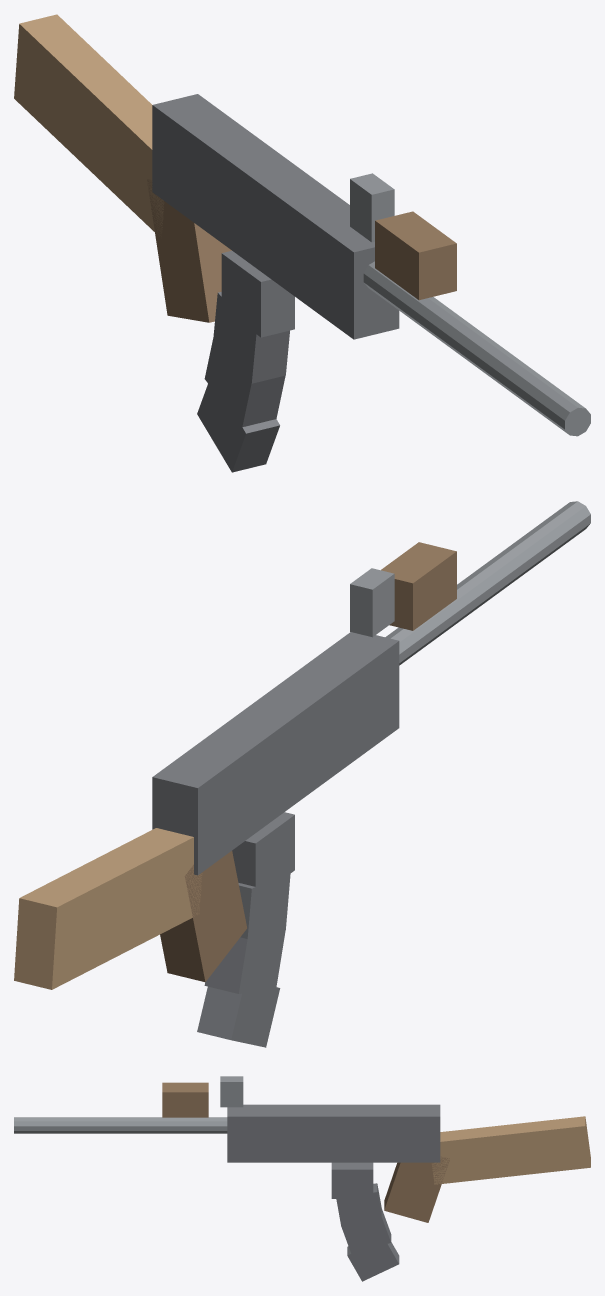
3 renders of one model, top to bottom at view 1: azimuth 30°, elevation 25°; view 2: azimuth 150°, elevation 25°; view 3: azimuth 270°, elevation 25°, orthographic. The views are drawn at different scales.
Parts seen in each view (by area): view 1: ak47; view 2: ak47; view 3: ak47.
Part boxes in pixels (x1,y1,x2,y2): ak47: (14,14,590,472); ak47: (14,501,590,1047); ak47: (14,1076,590,1281).
Size of the model in its own units: 0.06 by 0.4718 by 1.24.
